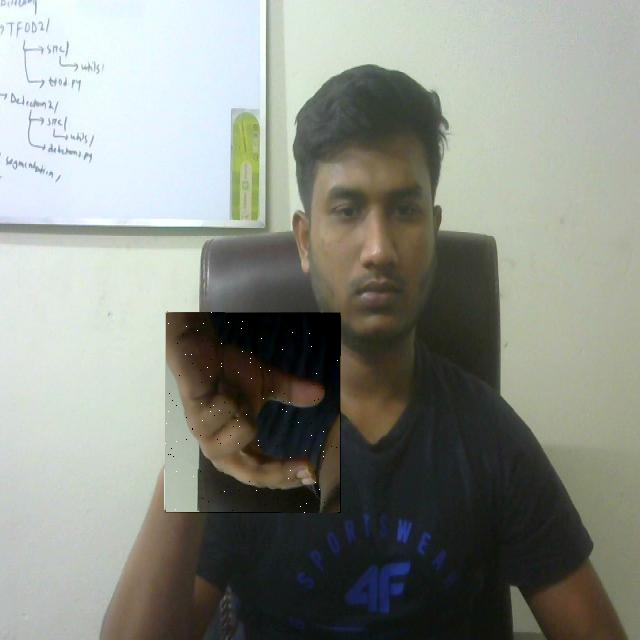No: (165, 312, 341, 513)
